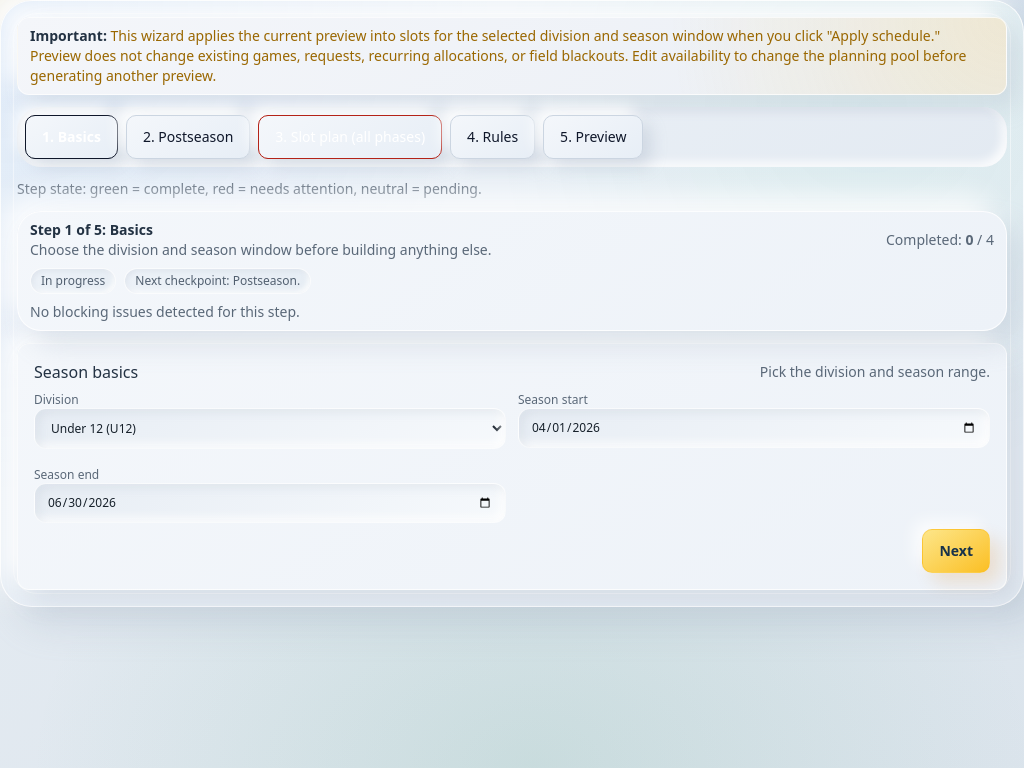
SeasonWizard › blocks forward step navigation until the current step is valid
Clear the date field labelled "Season start" at (754,428), box [518,408,990,448]
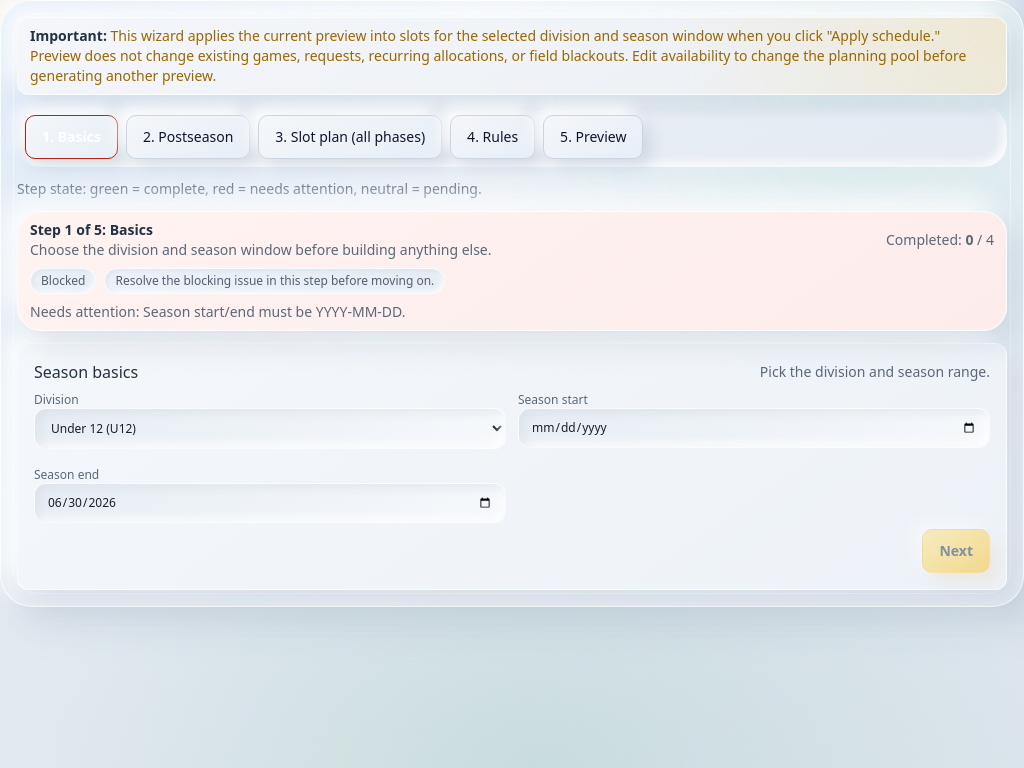
Click the button "2. Postseason".
click(188, 137)  # box [126,115,250,159]
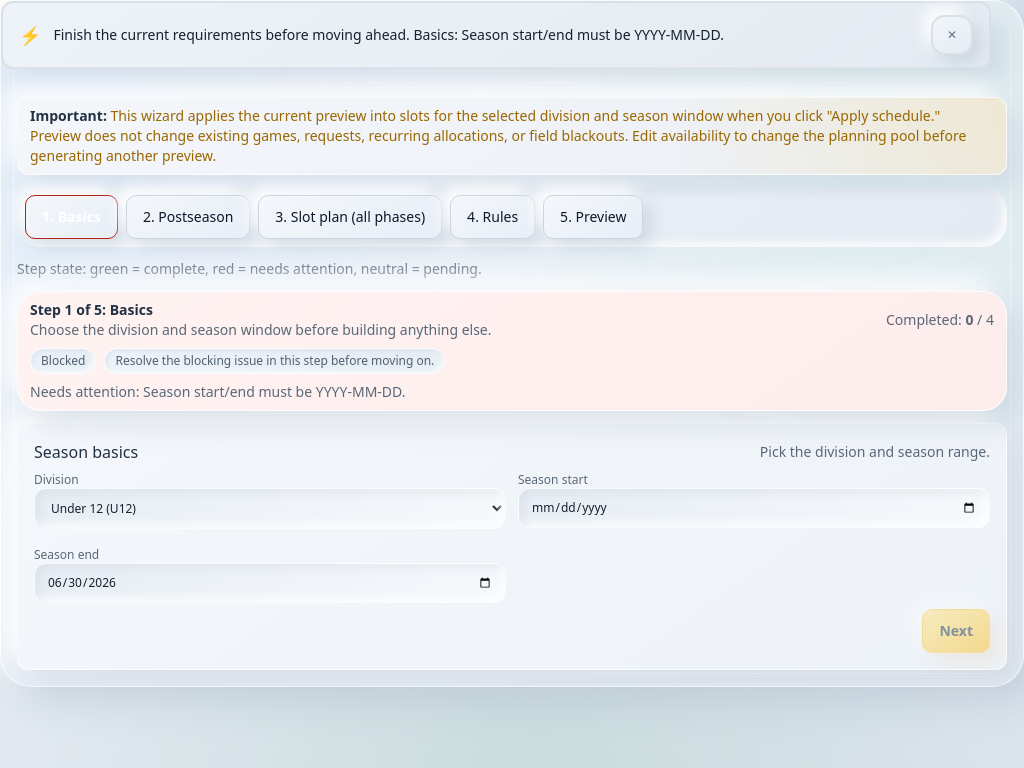
Expected: the text "Season basics" is shown, [34,440,138,464]
Now the text "Basics: Season start/end must be YYYY-MM-DD." is shown, box [54,25,724,44]
